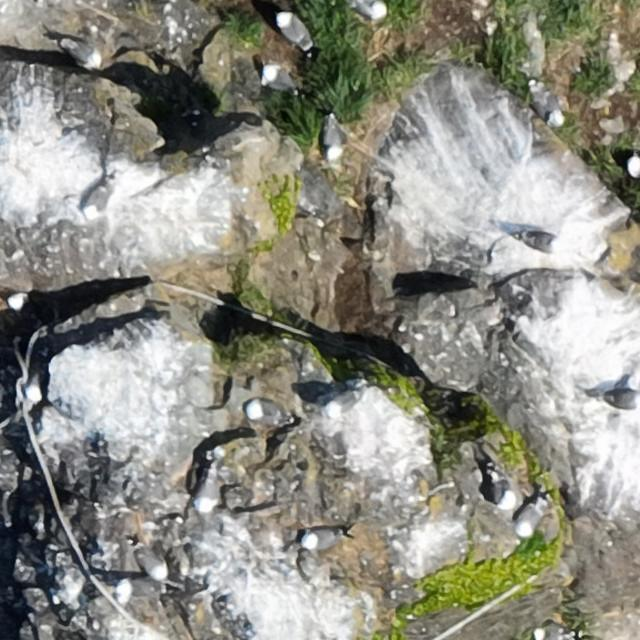umineko: (527, 80, 572, 128), (482, 460, 518, 514), (195, 464, 220, 516), (326, 388, 366, 419), (278, 13, 310, 48), (116, 582, 172, 602), (8, 294, 55, 316), (136, 548, 165, 580), (66, 42, 100, 65), (324, 118, 342, 159), (522, 231, 558, 251), (520, 502, 544, 532), (84, 184, 107, 215), (303, 531, 340, 550), (248, 403, 281, 423), (264, 68, 293, 90), (351, 1, 384, 20), (603, 392, 639, 408), (626, 155, 639, 179)
